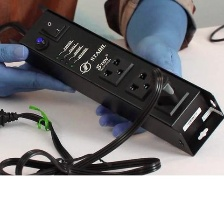three_eye_plug: (13, 6, 224, 158)
